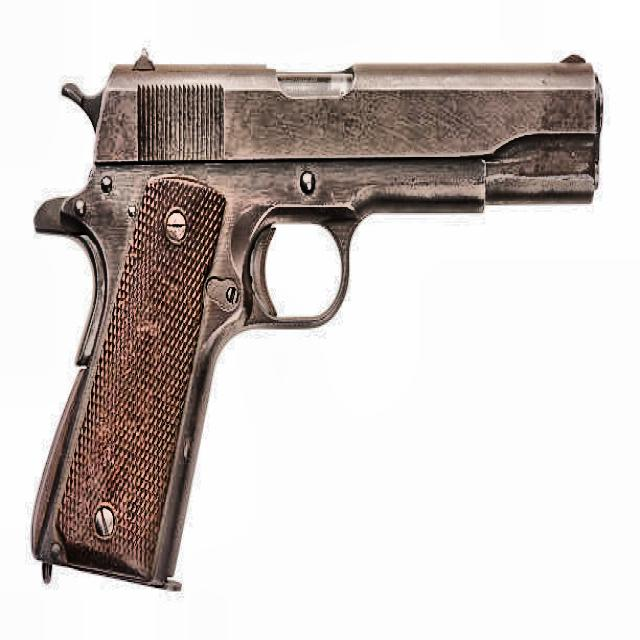Colt m1911: (29, 45, 604, 593)
